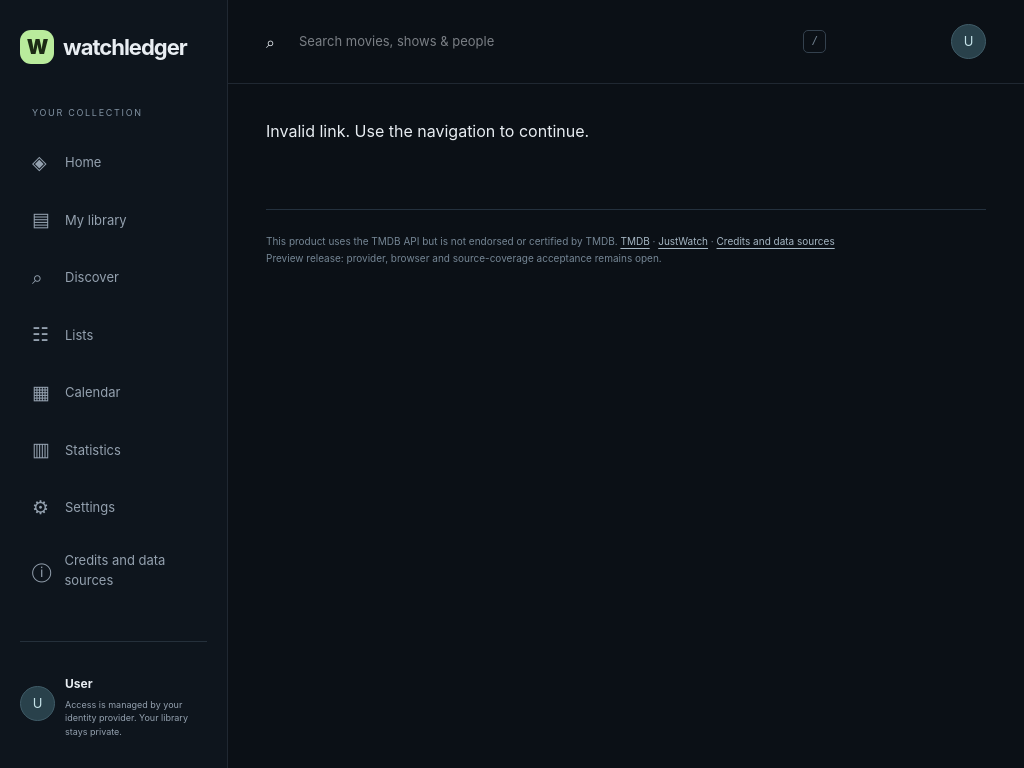
Test: invalid route #search/% keeps navigation usable
The image size is (1024, 768).
Expected: the message reads "Invalid link. Use the navigation to continue.", [266,121,589,141]
What coordinates should you click on to do the following:
click the link "▤ My library"
I would click on:
 (79, 220)
Its box is [32,208,127,231].
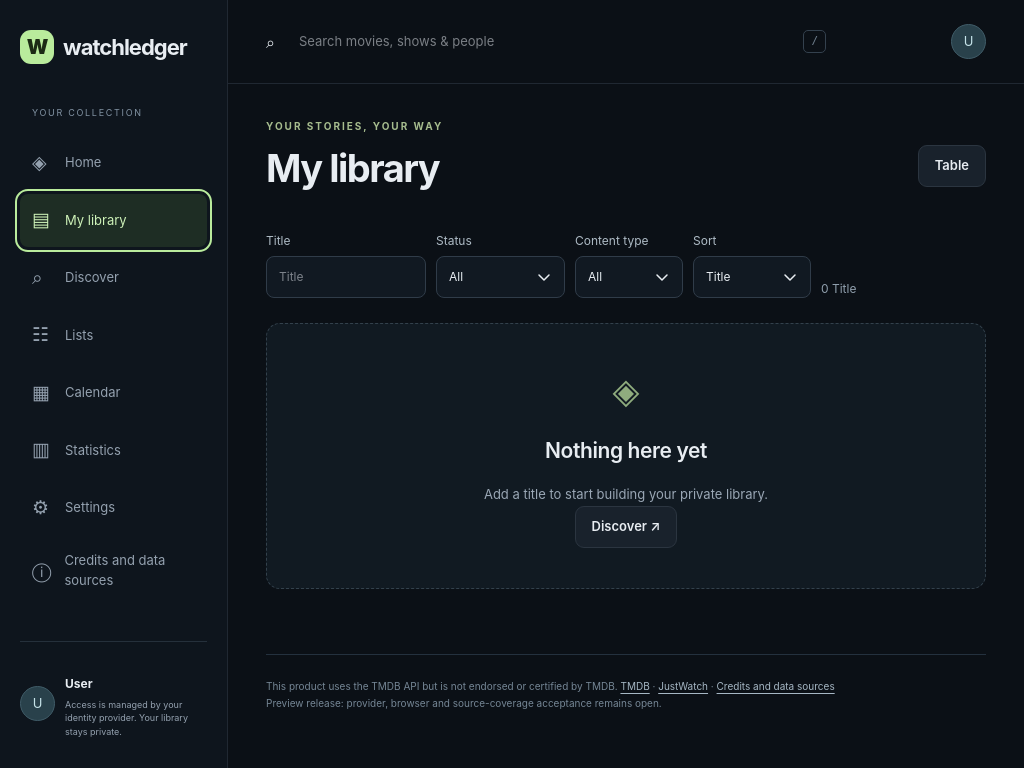
Expected: the heading "My library" is shown, [266,146,443,190]
